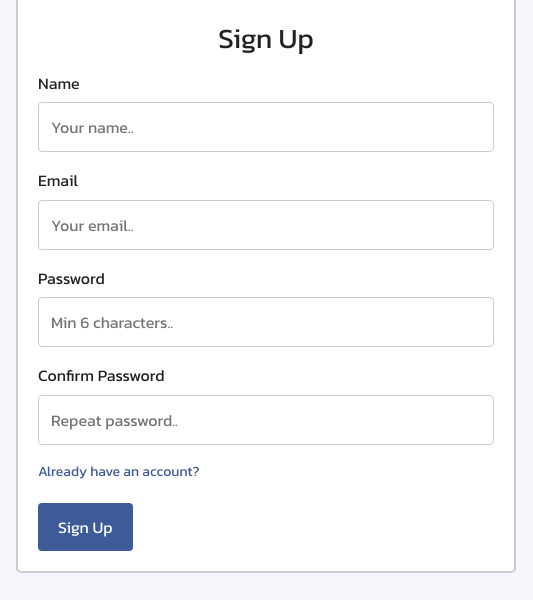
Test: Signup - field validation › shows error when confirm password is empty
Type "Alice" into the field with placeholder "Your name..". click: [266, 127]
box: 38,102 -> 494,152
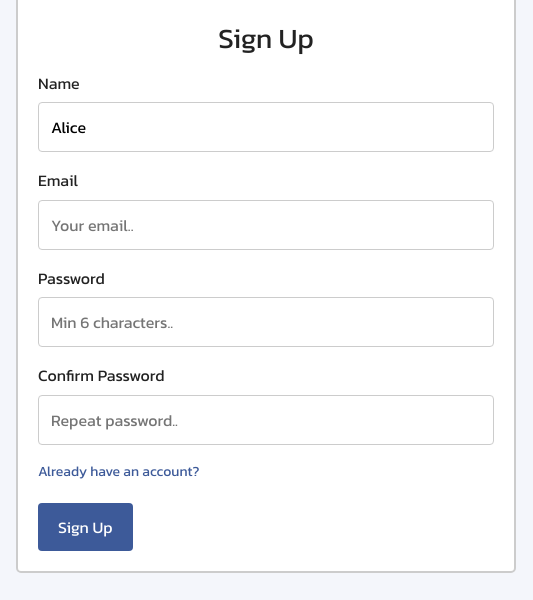
Type "alice@test.com" into the field with placeholder "Your email..". click: [266, 225]
box: 38,200 -> 494,250
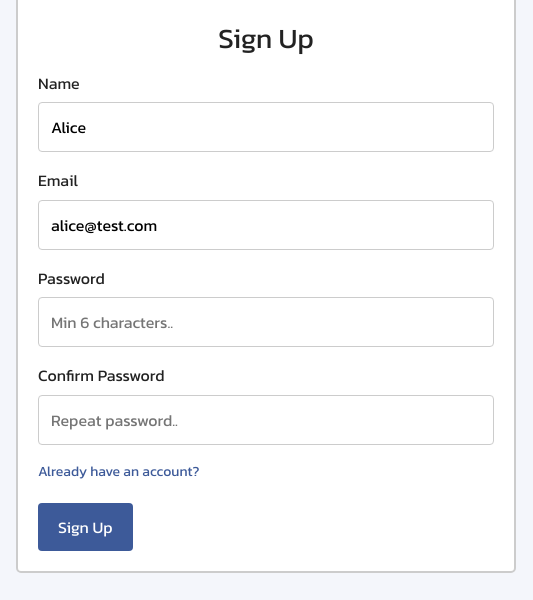
Type "password1" into the password field with placeholder "Min 6 characters..". click: [266, 322]
box: 38,297 -> 494,347
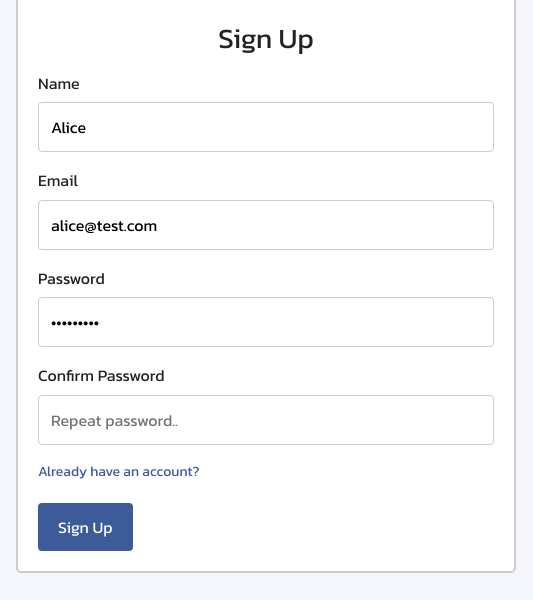
Click the button showing "Sign Up". click: [85, 527]
box: 38,503 -> 132,551
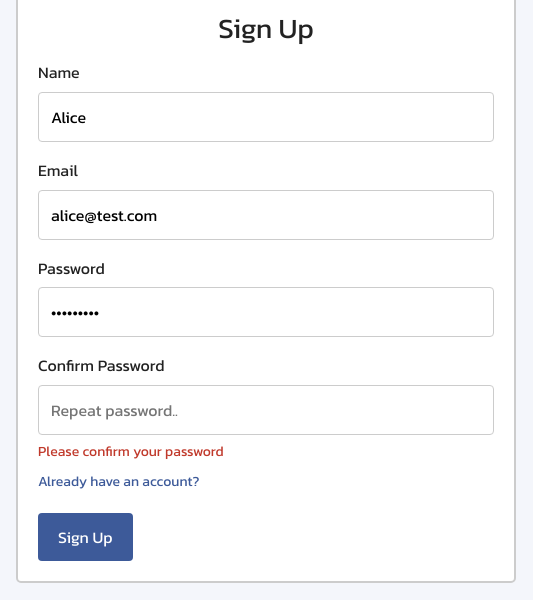
Expected: the text "Please confirm your password" is shown, 38,441 -> 224,462
